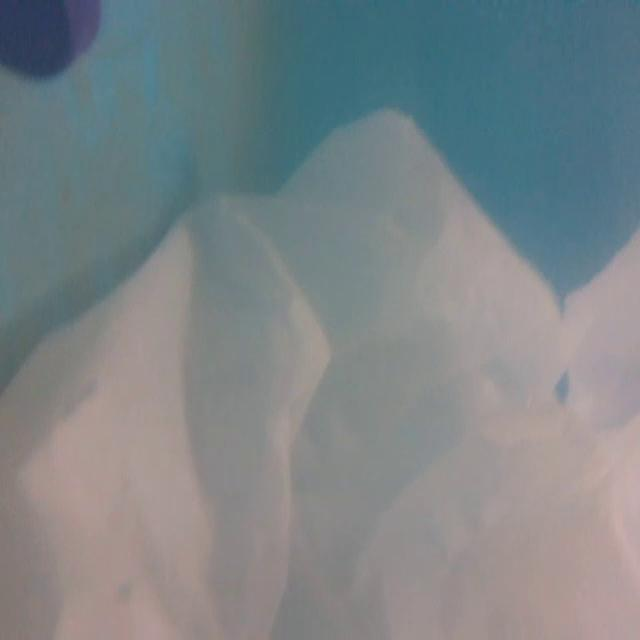plastic bags: (4, 108, 640, 640)
